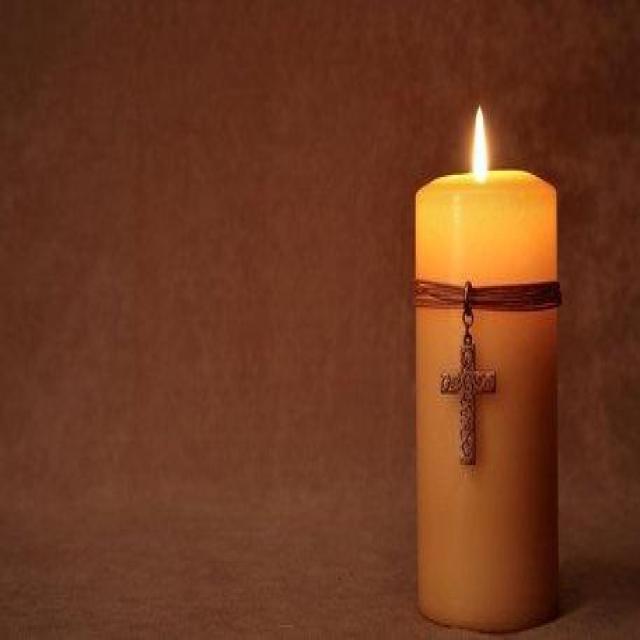fire: (462, 84, 501, 192)
